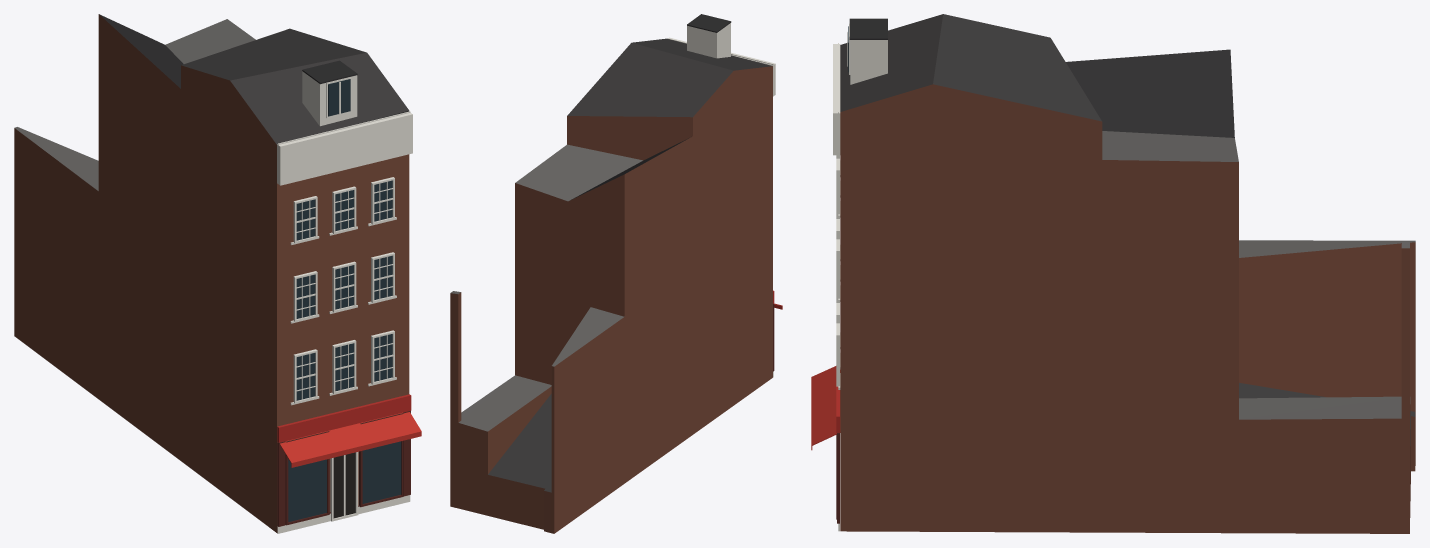
3 views of the same model, side by side, from view 1: azimuth 30°, elevation 25°; view 2: azimuth 150°, elevation 25°; view 3: azimuth 270°, elevation 25° (orthographic). The views are drawn at different scales.
Parts seen in each view (by area): view 1: spec-0363100012171702; view 2: spec-0363100012171702; view 3: spec-0363100012171702.
Part boxes in pixels (x1=…): spec-0363100012171702: x1=14, y1=14, x2=421, y2=533; spec-0363100012171702: x1=450, y1=14, x2=782, y2=533; spec-0363100012171702: x1=811, y1=14, x2=1415, y2=533.
Bounding box in the file's own units: 5.88 × 17.84 × 20.86.
